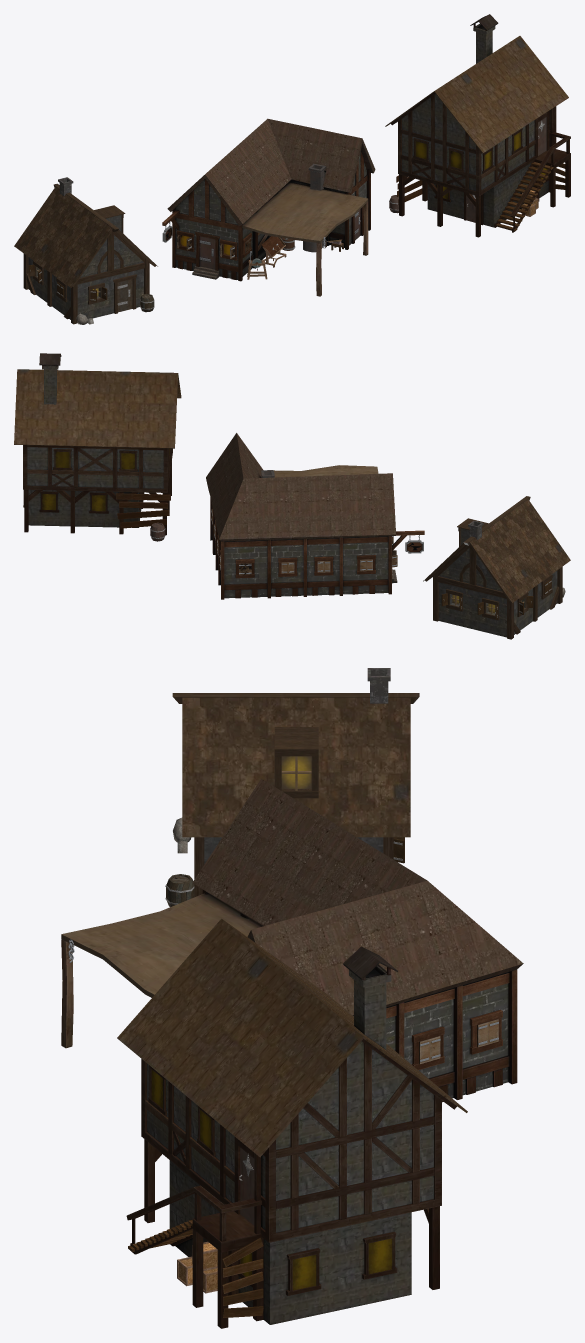
Rendered from timber.glb.
The picture shows the model from 3 angles, top to bottom: view 1: azimuth 30°, elevation 25°; view 2: azimuth 150°, elevation 25°; view 3: azimuth 270°, elevation 25°; orthographic projection. The views are drawn at different scales.
Parts seen in each view (by area): view 1: timber-barn, timber-inn, timber-house; view 2: timber-barn, timber-inn, timber-house; view 3: timber-barn, timber-inn, timber-house.
Part boxes in pixels (x1,y1,x2,y2): timber-barn: (385,14,570,237); timber-inn: (162,118,375,296); timber-house: (14,177,157,324); timber-barn: (14,353,181,541); timber-inn: (206,433,424,599); timber-house: (423,496,570,639); timber-barn: (117,918,467,1328); timber-inn: (61,779,523,1102); timber-house: (165,668,419,906).
Size of the model in its own units: 37.66 by 11.38 by 14.58.
11 materials, 11 textured.
